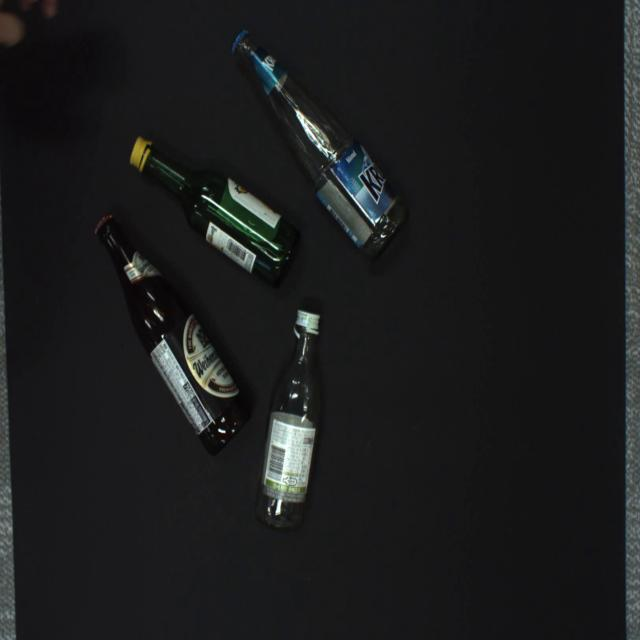beer-bottle: (230, 28, 410, 259), (95, 215, 250, 454)
soju-bottle: (130, 137, 299, 287), (255, 309, 321, 531)
